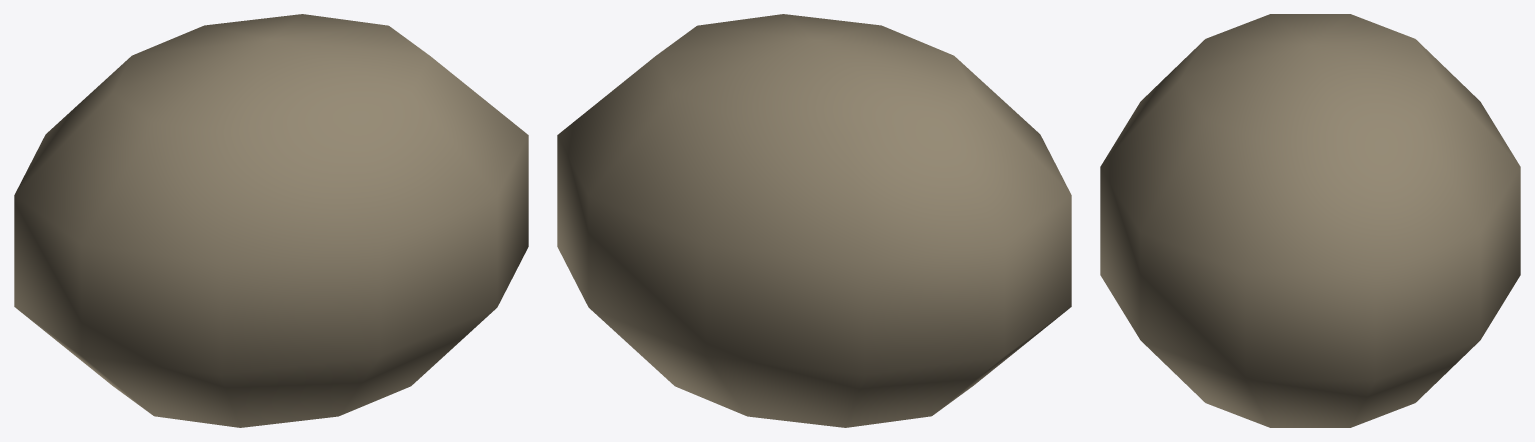
Rendered from rock_bakery.glb.
3 renders of one model, left to right at view 1: azimuth 30°, elevation 25°; view 2: azimuth 150°, elevation 25°; view 3: azimuth 270°, elevation 25°, orthographic. The views are drawn at different scales.
Visible parts, largest first — view 1: rock_bakery; view 2: rock_bakery; view 3: rock_bakery.
Part boxes in pixels (x1,y1,x2,y2): rock_bakery: [14, 14, 528, 427]; rock_bakery: [557, 14, 1071, 427]; rock_bakery: [1100, 14, 1520, 427].
Bounding box in the file's own units: 1.81 × 1.4 × 1.52.
